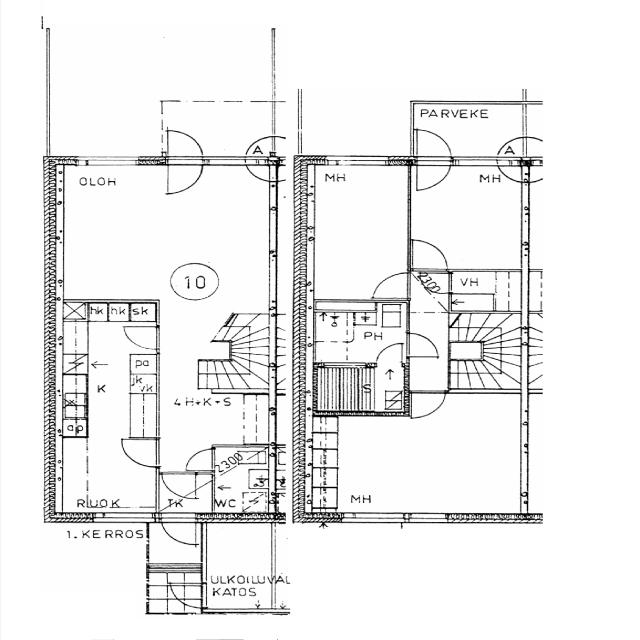door: (413, 126, 454, 185), (406, 235, 452, 272), (162, 157, 205, 194), (367, 268, 411, 302), (158, 514, 201, 548), (163, 127, 206, 160), (119, 436, 162, 469), (157, 470, 200, 502), (413, 160, 452, 192), (408, 388, 448, 419), (120, 323, 162, 352), (403, 330, 440, 359), (169, 583, 203, 608), (183, 447, 216, 472), (243, 134, 276, 158), (374, 341, 406, 364), (496, 136, 525, 159), (496, 161, 524, 183), (244, 159, 272, 181)
window: (324, 152, 390, 168), (76, 154, 142, 168), (340, 511, 406, 525), (89, 512, 152, 525), (202, 153, 250, 168), (451, 154, 501, 168), (405, 511, 448, 524)
zone: (48, 160, 300, 303), (306, 387, 524, 517), (300, 162, 412, 303), (61, 301, 158, 440), (409, 161, 526, 272), (202, 517, 277, 614), (312, 303, 408, 361), (309, 363, 405, 413), (211, 446, 271, 516), (446, 270, 525, 311), (118, 436, 164, 468)
